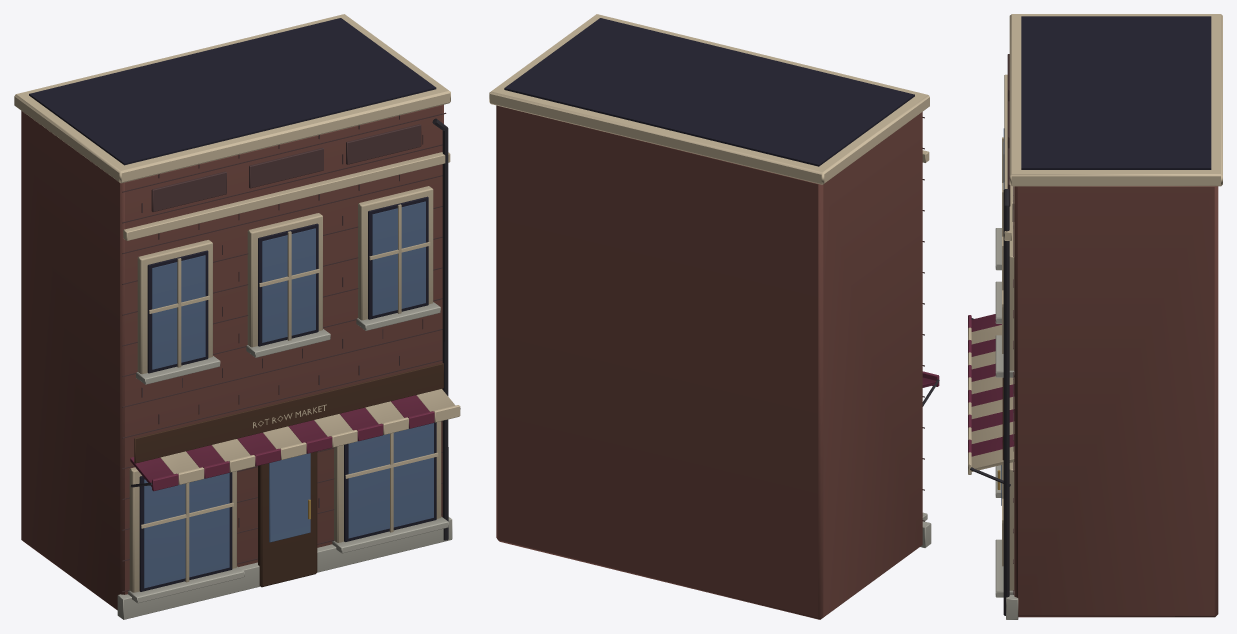
Rendered from env_shopfront_a.glb.
3 views of the same model, side by side, from view 1: azimuth 30°, elevation 25°; view 2: azimuth 150°, elevation 25°; view 3: azimuth 270°, elevation 25° (orthographic).
Visible parts, largest first — view 1: exterior, env_shopfront_a; view 2: exterior; view 3: exterior, env_shopfront_a.
Part boxes in pixels (bbox=[...]): exterior: bbox=[14, 14, 452, 619]; env_shopfront_a: bbox=[122, 112, 460, 603]; exterior: bbox=[489, 14, 931, 619]; exterior: bbox=[1006, 14, 1222, 619]; env_shopfront_a: bbox=[968, 54, 1014, 615].
Size of the model in its own units: 4.97 by 6.42 by 3.31.
